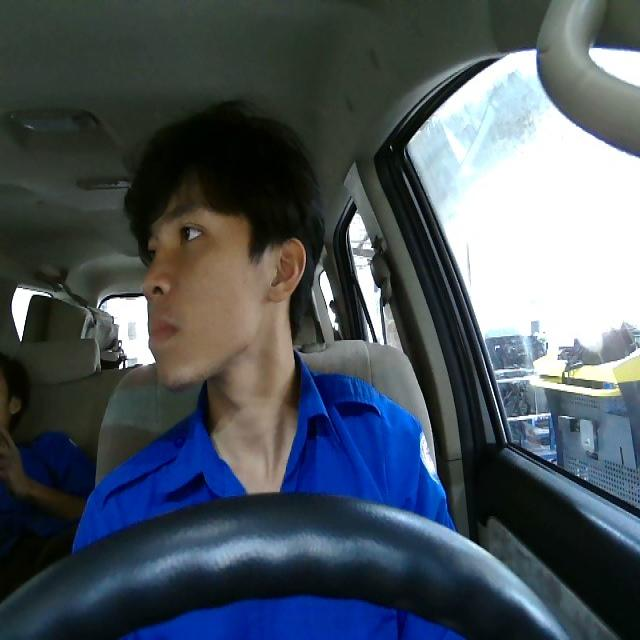seeing_left: (140, 177, 308, 391)
